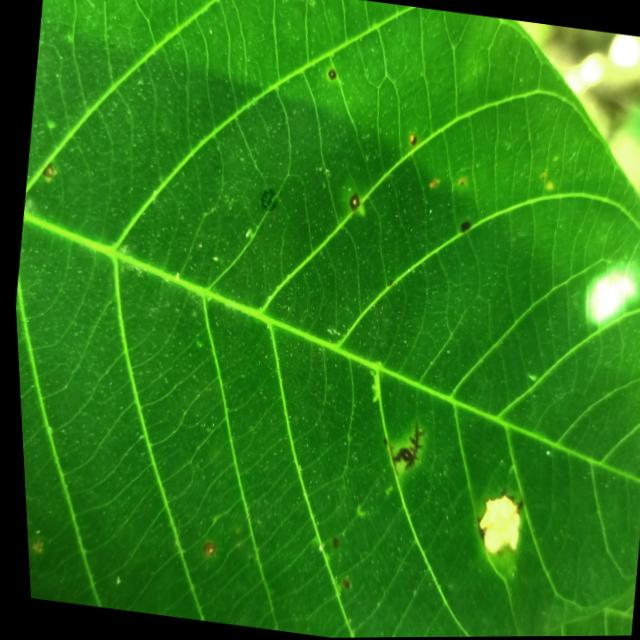Colletotrichum: (345, 192, 358, 212), (324, 538, 333, 549), (326, 70, 335, 81)
Corynespora: (379, 417, 423, 479)
Leaf-Blight: (467, 492, 519, 557)
